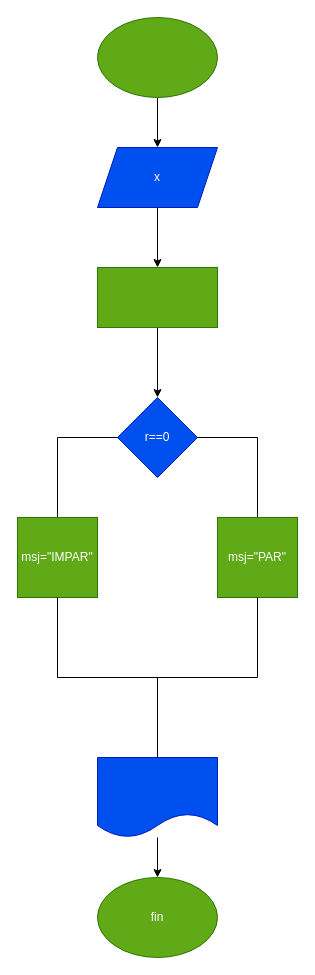
This 315x975 diagram has some shape labels left out. The shapes that lost their labels are listed below. From the top down, each one's box as (x1, y1, x2, y2) in pixels, then its label:
(96, 16, 218, 98): inicio
(96, 266, 218, 328): r= x%2
(96, 756, 218, 838): yes msj
